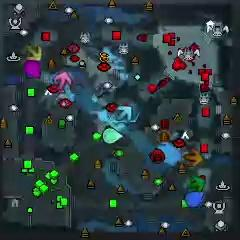p1: (185, 190, 204, 207)
p2: (103, 127, 123, 143)
p3: (23, 60, 42, 79)
x1: (54, 72, 72, 89)
x2: (25, 43, 42, 61)
x3: (117, 106, 133, 122)
x4: (187, 175, 205, 191)
x5: (186, 149, 203, 166)
